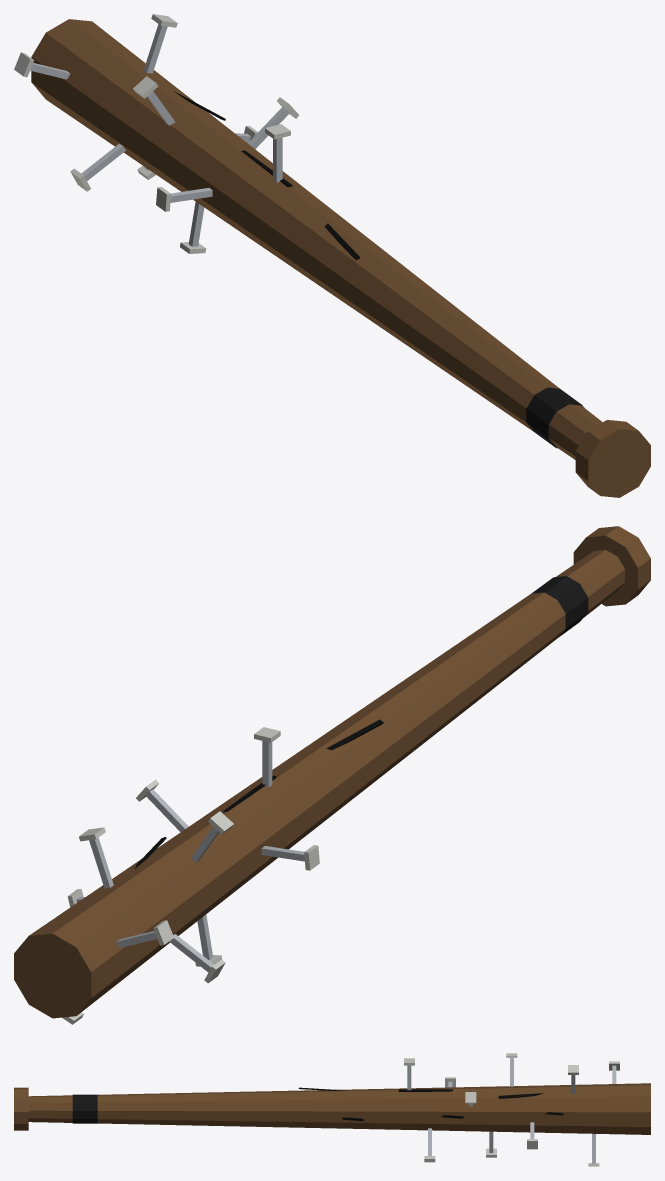
The model's file is bat_nails_w1.glb.
3 renders of one model, top to bottom at view 1: azimuth 30°, elevation 25°; view 2: azimuth 150°, elevation 25°; view 3: azimuth 270°, elevation 25°, orthographic. The views are drawn at different scales.
Parts seen in each view (by area): view 1: bat_nails_w1; view 2: bat_nails_w1; view 3: bat_nails_w1.
Boxes of the visible parts, left/top/right/bottom form: bat_nails_w1: left=14, top=14, right=650, bottom=497; bat_nails_w1: left=14, top=526, right=650, bottom=1024; bat_nails_w1: left=14, top=1053, right=650, bottom=1166.
Size of the model in its own units: 0.1506 by 0.1512 by 0.87.
